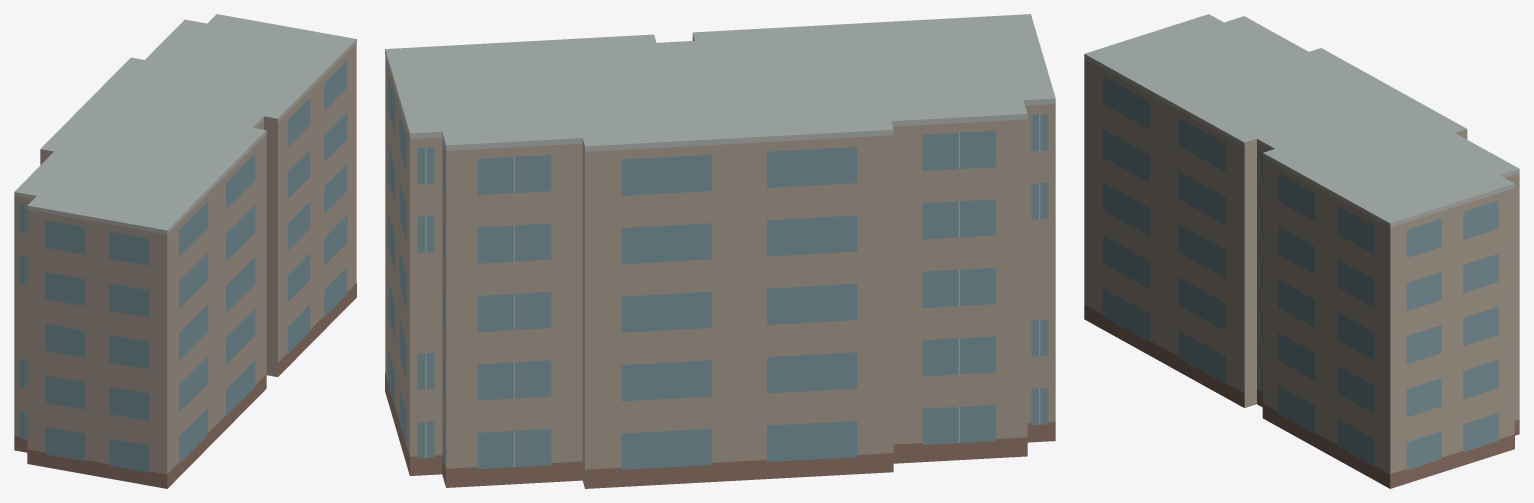
The model's file is survey-upis-32665856.glb.
The picture shows the model from 3 angles, left to right: view 1: azimuth 30°, elevation 25°; view 2: azimuth 150°, elevation 25°; view 3: azimuth 270°, elevation 25°; orthographic projection. The views are drawn at different scales.
Visible parts, largest first — view 1: survey-upis-32665856.tmp; view 2: survey-upis-32665856.tmp; view 3: survey-upis-32665856.tmp.
Boxes of the visible parts, bbox=[...] form: survey-upis-32665856.tmp: bbox=[14, 14, 356, 488]; survey-upis-32665856.tmp: bbox=[385, 14, 1055, 488]; survey-upis-32665856.tmp: bbox=[1084, 14, 1519, 488].
Size of the model in its own units: 25.55 by 15.1 by 22.45.
